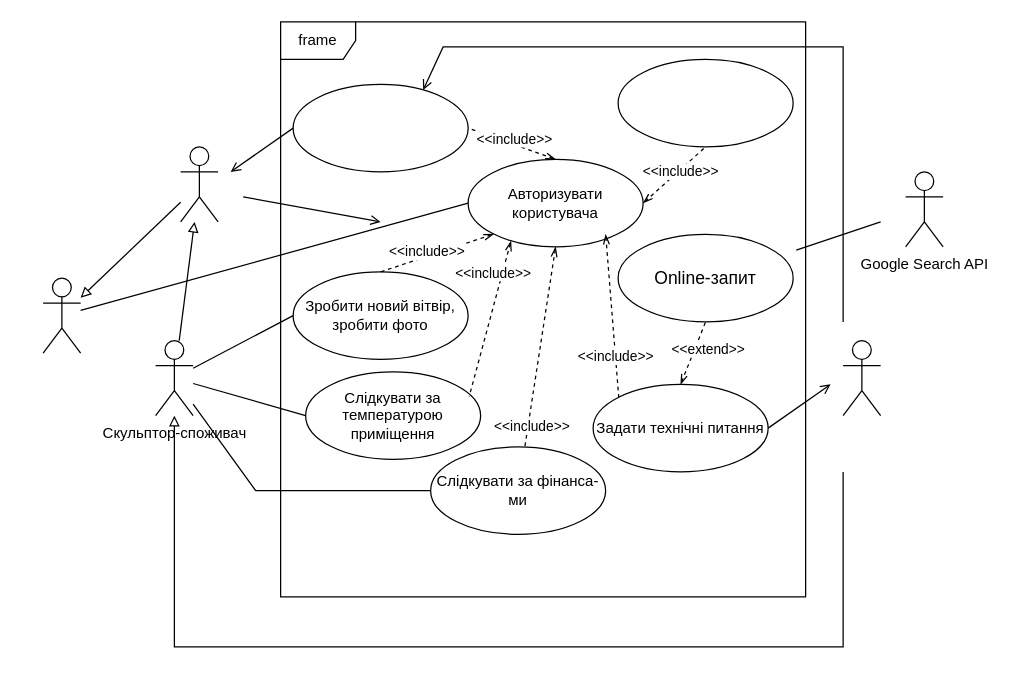
Image size: 1010x679. Some labels were removed from this diagram. The centre of each missing label's shape, as x and y in pixels:
Користувач: [61,315]
Отримати технічні відповіді: [380,127]
Публікувати фото у соц мережах: [705,102]
Співробітник: [198,184]
Співробітник офісу: [861,377]
